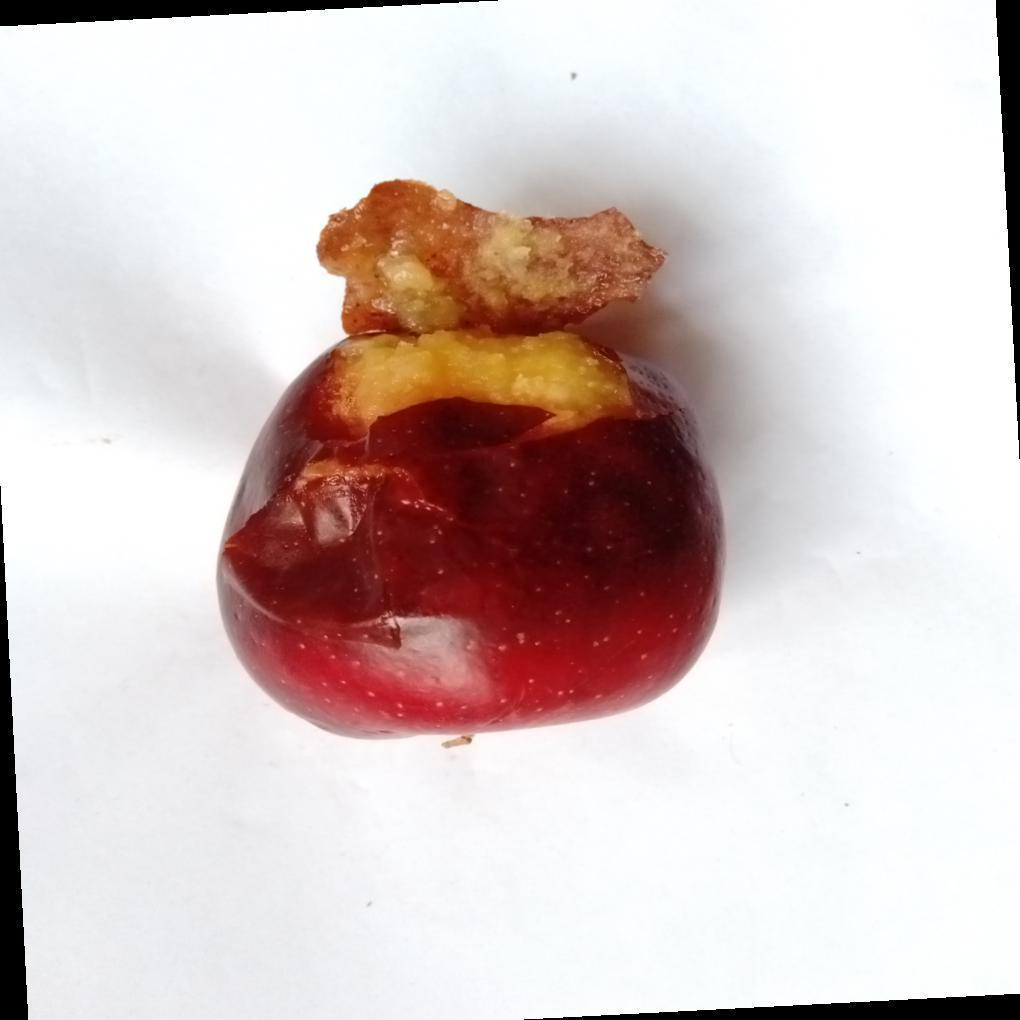FreshOrange: (214, 182, 724, 747)
